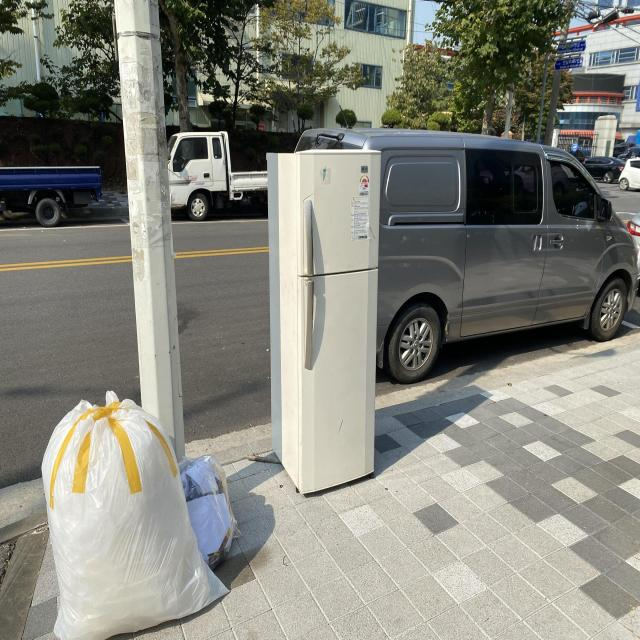refrigerator: (264, 148, 382, 496)
